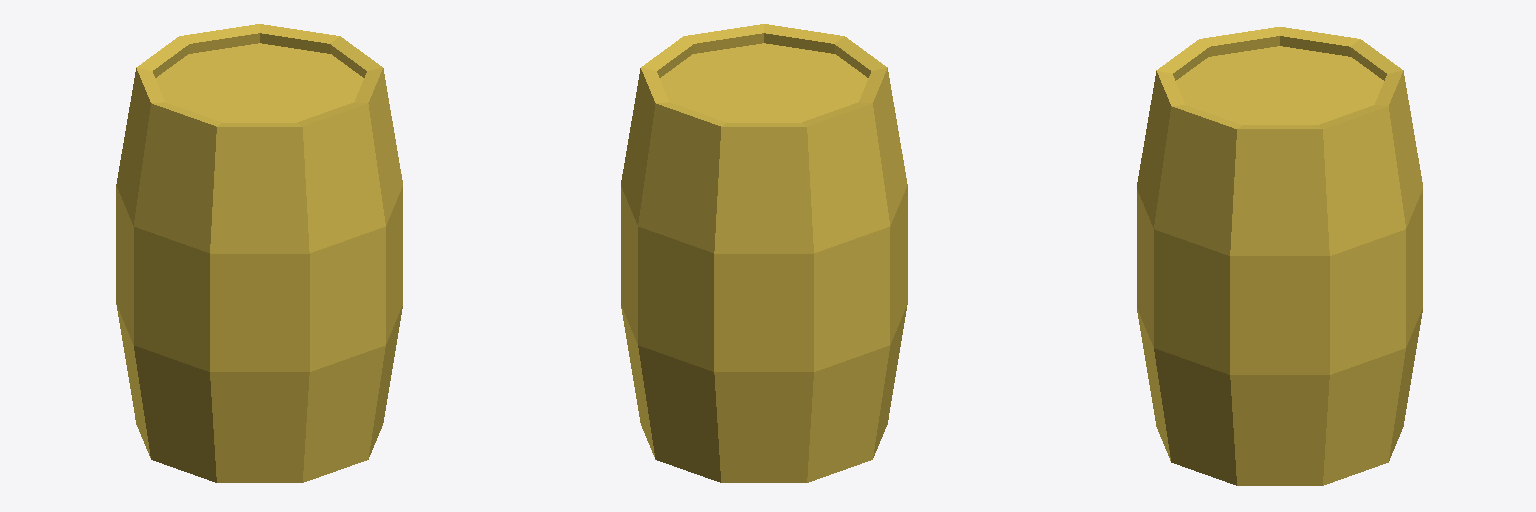
File: barrel1.obj
3 renders of one model, left to right at view 1: azimuth 30°, elevation 25°; view 2: azimuth 150°, elevation 25°; view 3: azimuth 270°, elevation 25°, orthographic.
Visible parts, largest first — view 1: Barrel1_LOD1; view 2: Barrel1_LOD1; view 3: Barrel1_LOD1.
Boxes of the visible parts, box(x1,y1,x2,y2) form: Barrel1_LOD1: box(116, 24, 402, 482); Barrel1_LOD1: box(621, 24, 907, 482); Barrel1_LOD1: box(1137, 27, 1422, 485).
Size of the model in its own units: 110 by 153 by 112.